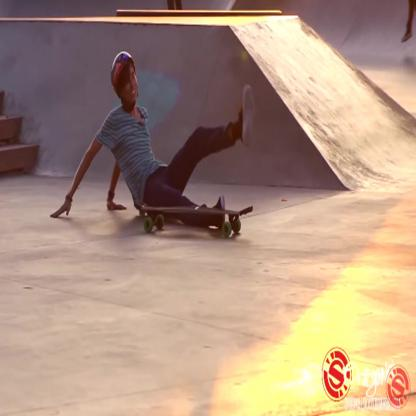Fall_Down: (49, 51, 258, 228)
